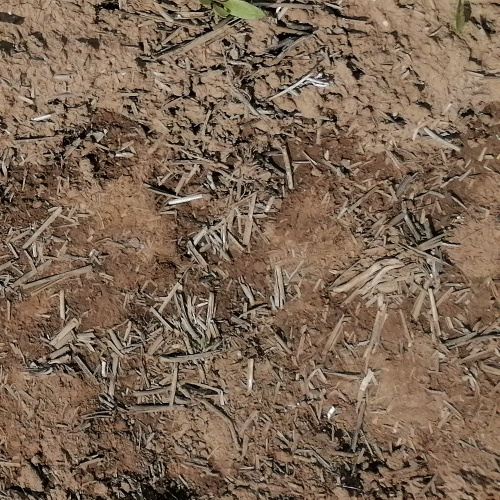beet: (207, 0, 266, 22)
